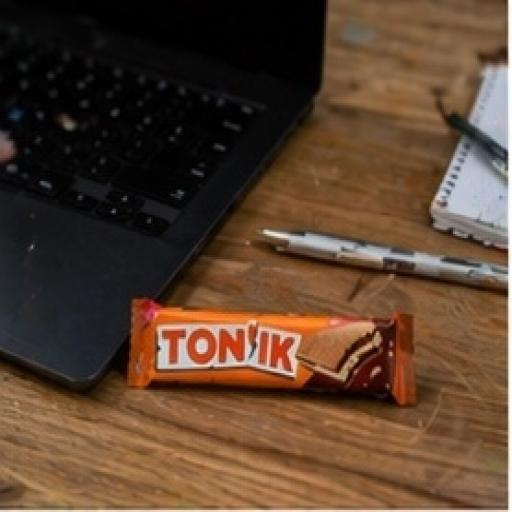tonik: (72, 230, 452, 485)
